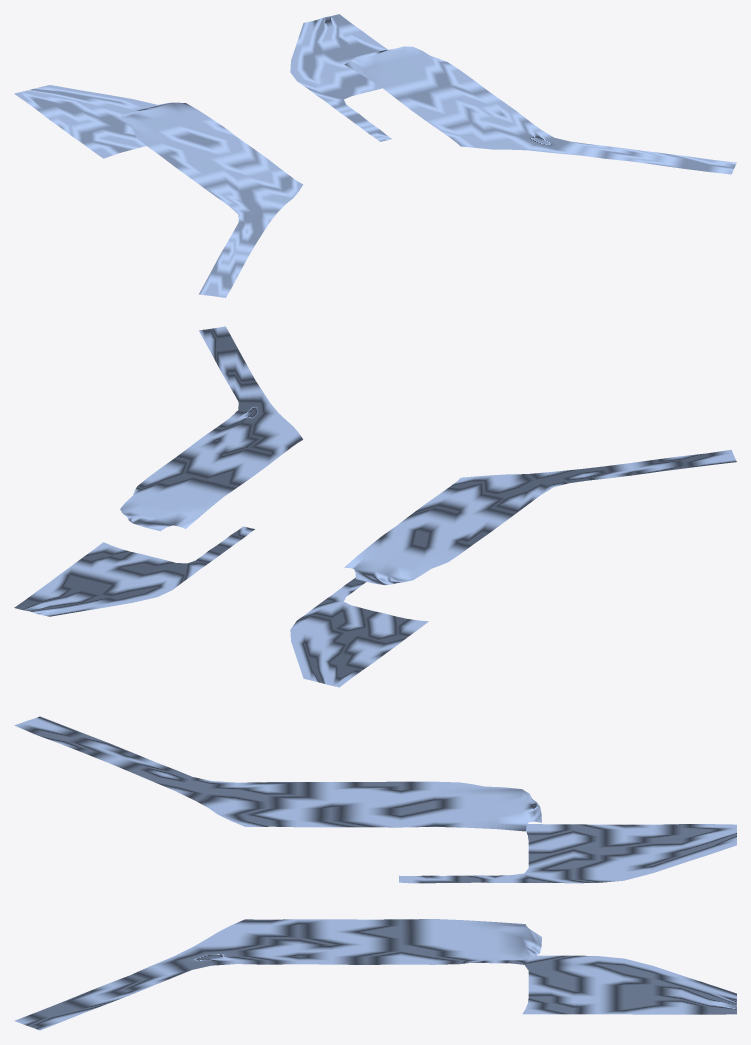
Rendered from planter_soil_slope_a.glb.
3 renders of one model, top to bottom at view 1: azimuth 30°, elevation 25°; view 2: azimuth 150°, elevation 25°; view 3: azimuth 270°, elevation 25°, orthographic. The views are drawn at different scales.
Bounding box in the file's own units: 42.59 × 3 × 41.38.
